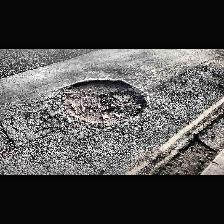pothole: (50, 78, 150, 122), (149, 135, 218, 175)
